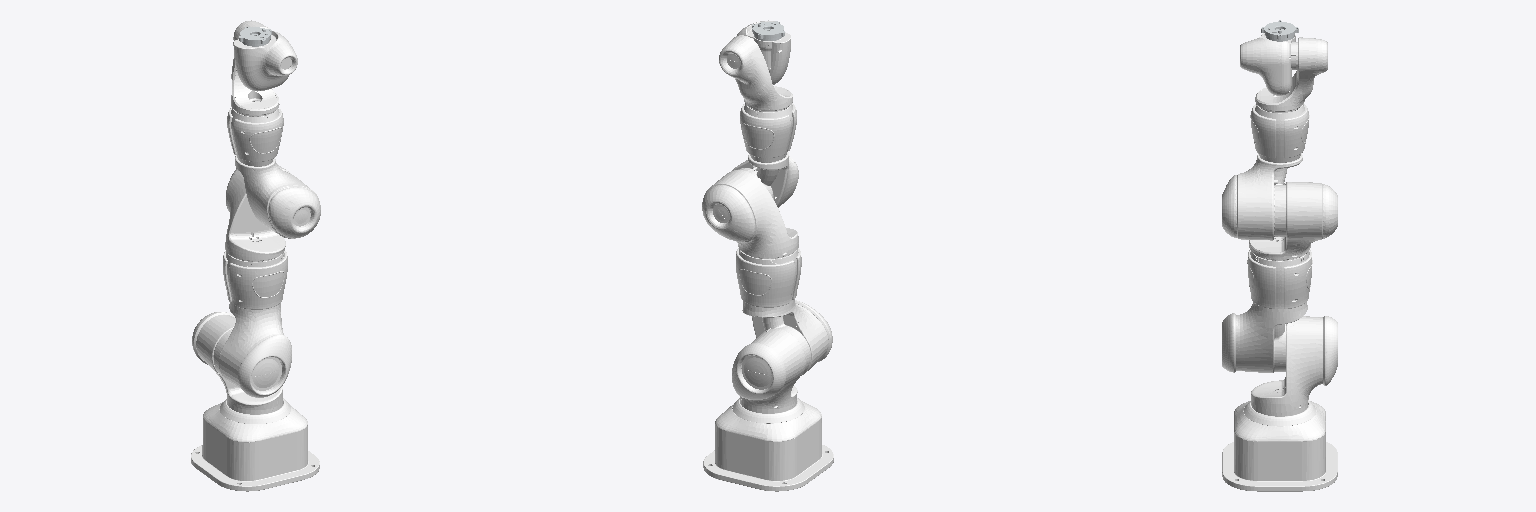
The robot description file, URDF, robot "enabot_v5":
<?xml version="1.0" encoding="utf-8"?>
<!-- This URDF was automatically created by SolidWorks to URDF Exporter! Originally created by [author] ([email redacted]) 
     Commit Version: 1.5.1-0-g916b5db  Build Version: 1.5.7152.31018
     For more information, please see http://wiki.ros.org/sw_urdf_exporter -->
<robot
  name="enabot_v5">

  <link name="world" />
  <joint name="world_j" type="fixed">
    <parent link="world" />
    <child link = "base_link" />
    <origin xyz="0.0 0.0 0.0" rpy="0.0 0.0 0.0" />
  </joint>

  <!-- base_link to 'Base' Coordinates transform -->
  <link name="base"/>
  <joint name="base_link_base_fixed_j" type="fixed">
    <!-- NOTE: this rotation is only needed as long as base_link itself is
  			 not corrected wrt the real robot (ie: rotated over 180
  			 degrees)
    -->
    <origin xyz="0 0 0" rpy="0 0 3.1415926535897"/>
    <parent link="base_link"/>
    <child link="base"/>
  </joint>
  
  <link
    name="base_link">
    <inertial>
      <origin
        xyz="8.7733E-05 -7.046E-07 0.062579"
        rpy="0 0 0" />
      <mass
        value="4.1111" />
      <inertia
        ixx="0.022253"
        ixy="1.5335E-06"
        ixz="3.8456E-06"
        iyy="0.022261"
        iyz="4.7419E-07"
        izz="0.031186" />
    </inertial>
    <visual>
      <origin
        xyz="0 0 0"
        rpy="0 0 0" />
      <geometry>
        <mesh
          filename="package://enabot_v5/meshes/base_link.STL" />
      </geometry>
      <material
        name="">
        <color
          rgba="1 1 1 1" />
      </material>
    </visual>
    <collision>
      <origin
        xyz="0 0 0"
        rpy="0 0 0" />
      <geometry>
        <mesh
          filename="package://enabot_v5/meshes/base_link.STL" />
      </geometry>
    </collision>
  </link>
  <link
    name="l1r">
    <inertial>
      <origin
        xyz="-0.015803 0.022933 0.20637"
        rpy="0 0 0" />
      <mass
        value="2.3481" />
      <inertia
        ixx="0.0051706"
        ixy="0.00019244"
        ixz="0.0009715"
        iyy="0.0062249"
        iyz="-0.00069757"
        izz="0.003198" />
    </inertial>
    <visual>
      <origin
        xyz="0 0 0"
        rpy="0 0 0" />
      <geometry>
        <mesh
          filename="package://enabot_v5/meshes/l1r.STL" />
      </geometry>
      <material
        name="">
        <color
          rgba="1 1 1 1" />
      </material>
    </visual>
    <collision>
      <origin
        xyz="0 0 0"
        rpy="0 0 0" />
      <geometry>
        <mesh
          filename="package://enabot_v5/meshes/l1r.STL" />
      </geometry>
    </collision>
  </link>
  <joint
    name="l1r_base_j"
    type="revolute">
    <origin
      xyz="0 0 0"
      rpy="0 0 0" />
    <parent
      link="base_link" />
    <child
      link="l1r" />
    <axis
      xyz="0 0 1" />
    <limit
      lower="-2.9409"
      upper="2.9409"
      effort="80"
      velocity="3.1416" />
  </joint>
  <link
    name="l2r">
    <inertial>
      <origin
        xyz="0.023041 -0.089253 -0.026946"
        rpy="0 0 0" />
      <mass
        value="3.4135" />
      <inertia
        ixx="0.0081871"
        ixy="0.0011548"
        ixz="-0.00031124"
        iyy="0.006603"
        iyz="0.00095289"
        izz="0.0097927" />
    </inertial>
    <visual>
      <origin
        xyz="0 0 0"
        rpy="0 0 0" />
      <geometry>
        <mesh
          filename="package://enabot_v5/meshes/l2r.STL" />
      </geometry>
      <material
        name="">
        <color
          rgba="1 1 1 1" />
      </material>
    </visual>
    <collision>
      <origin
        xyz="0 0 0"
        rpy="0 0 0" />
      <geometry>
        <mesh
          filename="package://enabot_v5/meshes/l2r.STL" />
      </geometry>
    </collision>
  </link>
  <joint
    name="l2r_l1r_j"
    type="revolute">
    <origin
      xyz="-0.036 0 0.2571"
      rpy="-1.5708 0 0" />
    <parent
      link="l1r" />
    <child
      link="l2r" />
    <axis
      xyz="0 0 1" />
    <limit
      lower="-2.5045"
      upper="0.7592"
      effort="80"
      velocity="3.1416" />
  </joint>
  <link
    name="l3r">
    <inertial>
      <origin
        xyz="0.024932 0.02465 0.29649"
        rpy="0 0 0" />
      <mass
        value="1.9423" />
      <inertia
        ixx="0.0038504"
        ixy="-0.00020732"
        ixz="-0.001056"
        iyy="0.0049594"
        iyz="-0.00039871"
        izz="0.0031319" />
    </inertial>
    <visual>
      <origin
        xyz="0 0 0"
        rpy="0 0 0" />
      <geometry>
        <mesh
          filename="package://enabot_v5/meshes/l3r.STL" />
      </geometry>
      <material
        name="">
        <color
          rgba="1 1 1 1" />
      </material>
    </visual>
    <collision>
      <origin
        xyz="0 0 0"
        rpy="0 0 0" />
      <geometry>
        <mesh
          filename="package://enabot_v5/meshes/l3r.STL" />
      </geometry>
    </collision>
  </link>
  <joint
    name="l3r_l2r_j"
    type="revolute">
    <origin
      xyz="0.036 0 0"
      rpy="1.5708 0 0" />
    <parent
      link="l2r" />
    <child
      link="l3r" />
    <axis
      xyz="0 0 1" />
    <limit
      lower="-2.1555"
      upper="1.3963"
      effort="80"
      velocity="3.1416" />
  </joint>
  <link
    name="l4r">
    <inertial>
      <origin
        xyz="-0.030867 0.088045 0.022062"
        rpy="0 0 0" />
      <mass
        value="2.0616" />
      <inertia
        ixx="0.0034288"
        ixy="0.00064926"
        ixz="-9.5477E-05"
        iyy="0.0026988"
        iyz="0.00026032"
        izz="0.0046807" />
    </inertial>
    <visual>
      <origin
        xyz="0 0 0"
        rpy="0 0 0" />
      <geometry>
        <mesh
          filename="package://enabot_v5/meshes/l4r.STL" />
      </geometry>
      <material
        name="">
        <color
          rgba="1 1 1 1" />
      </material>
    </visual>
    <collision>
      <origin
        xyz="0 0 0"
        rpy="0 0 0" />
      <geometry>
        <mesh
          filename="package://enabot_v5/meshes/l4r.STL" />
      </geometry>
    </collision>
  </link>
  <joint
    name="l4r_l3r_j"
    type="revolute">
    <origin
      xyz="0.0486 0 0.3353"
      rpy="1.5708 0 0" />
    <parent
      link="l3r" />
    <child
      link="l4r" />
    <axis
      xyz="0 0 1" />
    <limit
      lower="-2.9409"
      upper="2.9409"
      effort="80"
      velocity="3.1416" />
  </joint>
  <link
    name="l5r">
    <inertial>
      <origin
        xyz="0.010361 0.027033 0.27077"
        rpy="0 0 0" />
      <mass
        value="0.73045" />
      <inertia
        ixx="0.0020135"
        ixy="-0.00014732"
        ixz="-0.00038546"
        iyy="0.0019846"
        iyz="-0.00060009"
        izz="0.00096902" />
    </inertial>
    <visual>
      <origin
        xyz="0 0 0"
        rpy="0 0 0" />
      <geometry>
        <mesh
          filename="package://enabot_v5/meshes/l5r.STL" />
      </geometry>
      <material
        name="">
        <color
          rgba="1 1 1 1" />
      </material>
    </visual>
    <collision>
      <origin
        xyz="0 0 0"
        rpy="0 0 0" />
      <geometry>
        <mesh
          filename="package://enabot_v5/meshes/l5r.STL" />
      </geometry>
    </collision>
  </link>
  <joint
    name="l5r_l4r_j"
    type="revolute">
    <origin
      xyz="-0.0486 0 0"
      rpy="-1.5708 0 0" />
    <parent
      link="l4r" />
    <child
      link="l5r" />
    <axis
      xyz="0 0 1" />
    <limit
      lower="-5.0615"
      upper="5.0615"
      effort="50"
      velocity="6.9813" />
  </joint>
  <link
    name="l6r">
    <inertial>
      <origin
        xyz="-0.014999 0.0085168 -0.0079261"
        rpy="0 0 0" />
      <mass
        value="0.67663" />
      <inertia
        ixx="0.00043785"
        ixy="-1.6217E-05"
        ixz="7.1572E-06"
        iyy="0.00048994"
        iyz="-2.9976E-05"
        izz="0.0006712" />
    </inertial>
    <visual>
      <origin
        xyz="0 0 0"
        rpy="0 0 0" />
      <geometry>
        <mesh
          filename="package://enabot_v5/meshes/l6r.STL" />
      </geometry>
      <material
        name="">
        <color
          rgba="1 1 1 1" />
      </material>
    </visual>
    <collision>
      <origin
        xyz="0 0 0"
        rpy="0 0 0" />
      <geometry>
        <mesh
          filename="package://enabot_v5/meshes/l6r.STL" />
      </geometry>
    </collision>
  </link>
  <joint
    name="l6r_l5r_j"
    type="revolute">
    <origin
      xyz="0.0324 0 0.3368"
      rpy="-1.5708 0 0" />
    <parent
      link="l5r" />
    <child
      link="l6r" />
    <axis
      xyz="0 0 1" />
    <limit
      lower="-1.5359"
      upper="2.4086"
      effort="50"
      velocity="6.9813" />
  </joint>
  <link
    name="l7r">
    <inertial>
      <origin
        xyz="0.00017791 9.835E-05 0.038775"
        rpy="0 0 0" />
      <mass
        value="0.097645" />
      <inertia
        ixx="2.812E-05"
        ixy="-2.4295E-08"
        ixz="-1.483E-07"
        iyy="2.869E-05"
        iyz="-3.7224E-08"
        izz="4.8066E-05" />
    </inertial>
    <visual>
      <origin
        xyz="0 0 0"
        rpy="0 0 0" />
      <geometry>
        <mesh
          filename="package://enabot_v5/meshes/l7r.STL" />
      </geometry>
      <material
        name="">
        <color
          rgba="0.89804 0.91765 0.92941 1" />
      </material>
    </visual>
    <collision>
      <origin
        xyz="0 0 0"
        rpy="0 0 0" />
      <geometry>
        <mesh
          filename="package://enabot_v5/meshes/l7r.STL" />
      </geometry>
    </collision>
  </link>
  <joint
    name="l7r_l6r_j"
    type="revolute">
    <origin
      xyz="-0.0324 0 0"
      rpy="1.5708 0 0" />
    <parent
      link="l6r" />
    <child
      link="l7r" />
    <axis
      xyz="0 0 1" />
    <limit
      lower="-3.9968"
      upper="3.9968"
      effort="50"
      velocity="6.9813" />
  </joint>

  <joint name="ee_fixed_joint" type="fixed">
    <parent link="l7r" />
    <child link = "ee_link" />
    <origin xyz="0.0 0 0.0468" rpy="0.0 0.0 0" />
  </joint>
  <link name="ee_link">
    <collision>
  	<geometry>
  	  <box size="0.01 0.01 0.01"/>
  	</geometry>
  	<origin rpy="0 0 0" xyz="-0.01 0 0"/>
    </collision>
  </link>

  <!-- Frame coincident with all-zeros TCP on UR controller -->
  <link name="tool0"/>
  <joint name="l7r_tool0_fixed_j" type="fixed">
    <origin xyz="0 0 0.0468 " rpy="0 0 0"/>
    <parent link="l7r"/>
    <child link="tool0"/>
  </joint>
  
</robot>

--- Facts derived from the render (not from the file) ---
Views: 3 orthographic renders of the robot side by side, from view 1: azimuth 30°, elevation 25°; view 2: azimuth 150°, elevation 25°; view 3: azimuth 270°, elevation 25°.
Robot: enabot_v5 — 12 links, 11 joints (7 revolute, 4 fixed); root link world; default pose: every joint at zero.
Visible links, largest first — view 1: base_link, l2r, l4r, l3r, l6r, l1r, l5r, l7r; view 2: base_link, l2r, l3r, l1r, l4r, l5r, l6r, l7r; view 3: base_link, l4r, l2r, l1r, l3r, l5r, l6r, l7r.
Link boxes in pixels (x1=…): base_link: x1=191, y1=398, x2=319, y2=491; l2r: x1=214, y1=251, x2=291, y2=397; l4r: x1=227, y1=108, x2=320, y2=238; l3r: x1=225, y1=164, x2=290, y2=261; l6r: x1=233, y1=31, x2=297, y2=91; l1r: x1=192, y1=312, x2=282, y2=414; l5r: x1=231, y1=20, x2=279, y2=116; l7r: x1=239, y1=27, x2=271, y2=46; base_link: x1=703, y1=398, x2=833, y2=491; l2r: x1=736, y1=248, x2=832, y2=375; l3r: x1=702, y1=170, x2=798, y2=258; l1r: x1=732, y1=328, x2=805, y2=413; l4r: x1=732, y1=103, x2=798, y2=207; l5r: x1=719, y1=35, x2=792, y2=111; l6r: x1=737, y1=20, x2=790, y2=84; l7r: x1=752, y1=21, x2=784, y2=40; base_link: x1=1222, y1=400, x2=1337, y2=491; l4r: x1=1222, y1=104, x2=1309, y2=240; l2r: x1=1222, y1=250, x2=1312, y2=372; l1r: x1=1251, y1=316, x2=1337, y2=416; l3r: x1=1249, y1=182, x2=1337, y2=260; l5r: x1=1255, y1=37, x2=1327, y2=112; l6r: x1=1240, y1=33, x2=1295, y2=95; l7r: x1=1261, y1=20, x2=1298, y2=41.
Size in the robot's own frame: 0.2322 by 0.234 by 0.9815 metres.
Meshes: 8 distinct files referenced, 8 mesh visuals loaded (8 binary STL).
